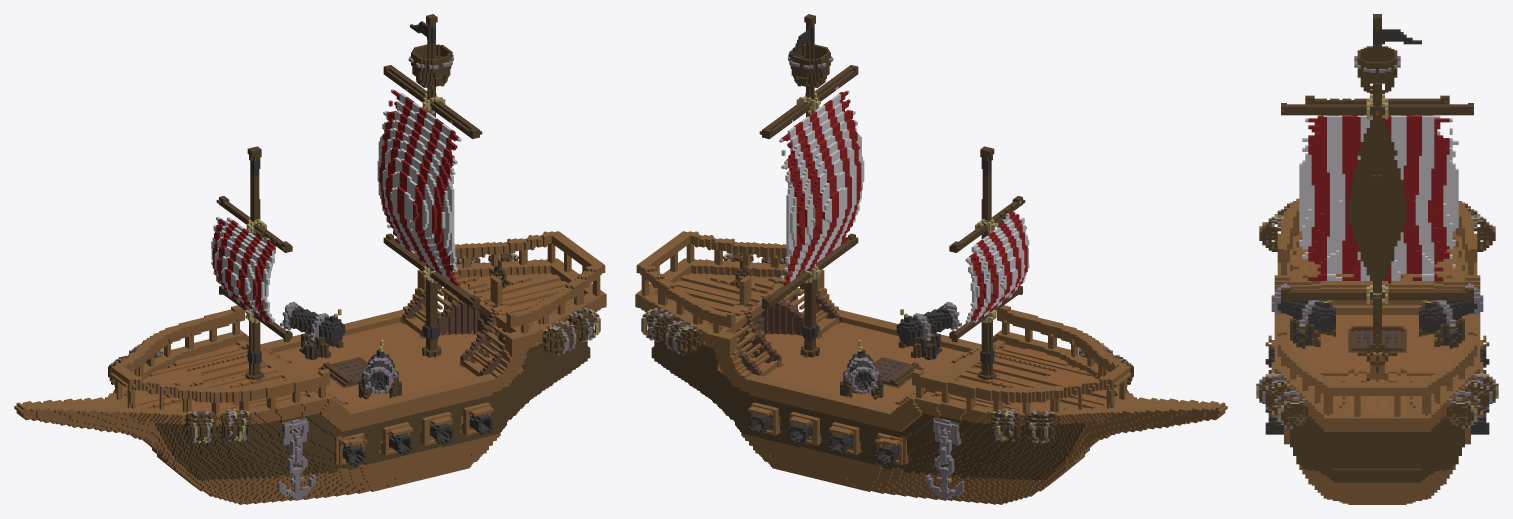
The model's file is Ship_Large_Voxelized.glb.
3 views of the same model, side by side, from view 1: azimuth 30°, elevation 25°; view 2: azimuth 150°, elevation 25°; view 3: azimuth 270°, elevation 25° (orthographic). The views are drawn at different scales.
Visible parts, largest first — view 1: Ship_Large_Voxelized; view 2: Ship_Large_Voxelized; view 3: Ship_Large_Voxelized.
Boxes of the visible parts, bbox=[...] form: Ship_Large_Voxelized: bbox=[14, 14, 606, 504]; Ship_Large_Voxelized: bbox=[635, 14, 1227, 504]; Ship_Large_Voxelized: bbox=[1256, 14, 1498, 504].
Bounding box in the file's own units: 15.47 × 11.45 × 5.29.
1 material, 1 textured.
